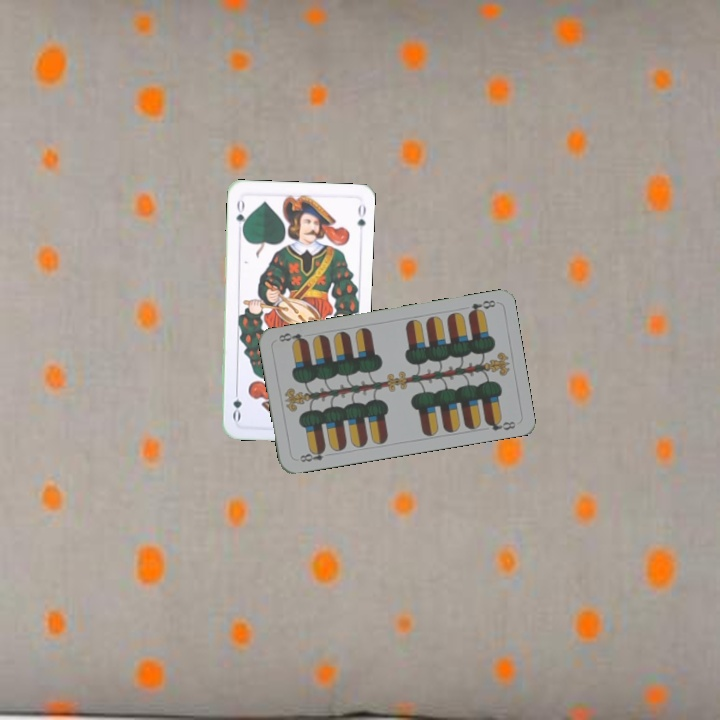E8: (295, 444, 333, 465), (464, 296, 498, 318)
GO: (232, 194, 249, 235)
